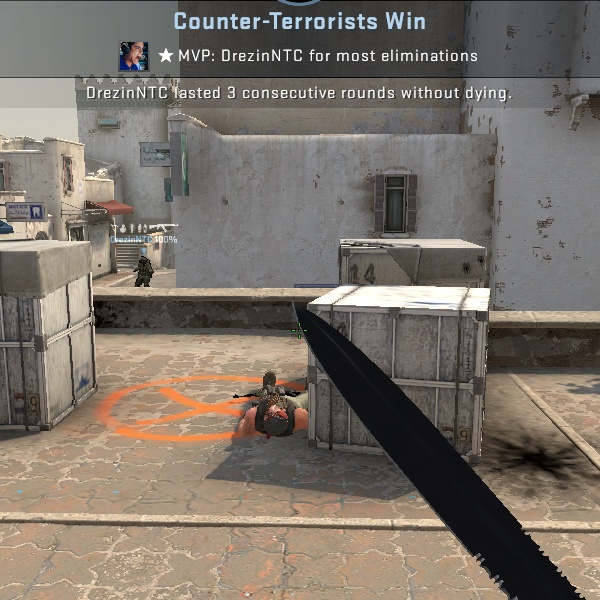ct_body: (130, 253, 155, 290)
